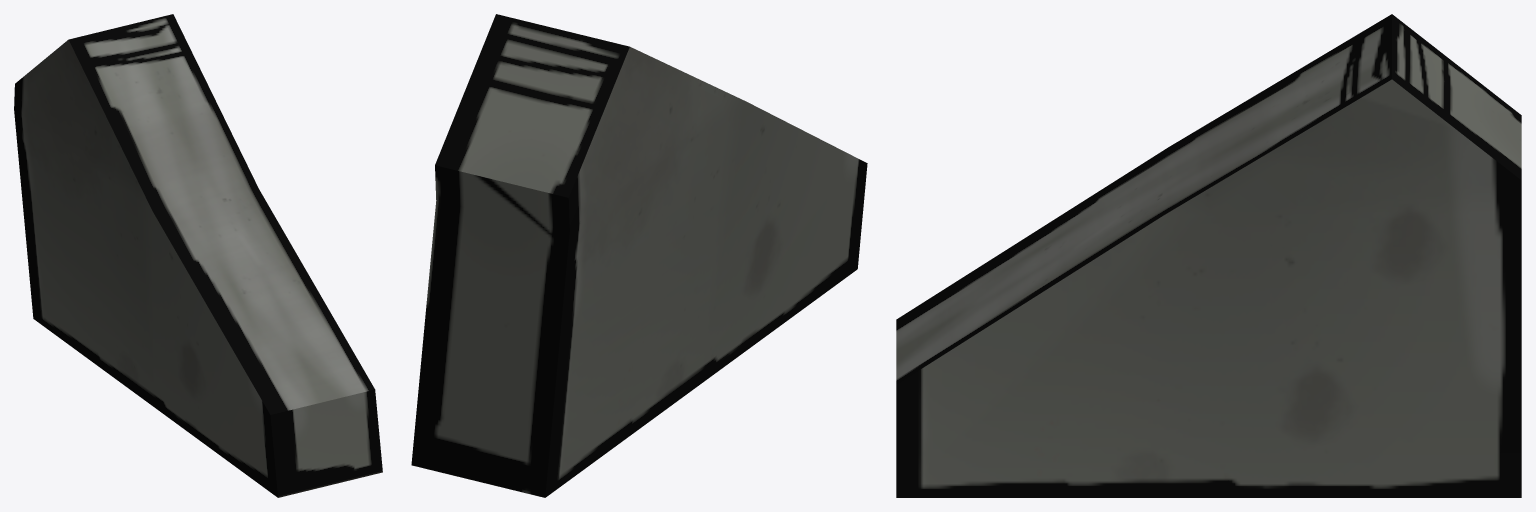
Rendered from tombstone_01_gib5.fbx.
The picture shows the model from 3 angles, left to right: view 1: azimuth 30°, elevation 25°; view 2: azimuth 150°, elevation 25°; view 3: azimuth 270°, elevation 25°; orthographic projection. The views are drawn at different scales.
Parts seen in each view (by area): view 1: tombstone_01_gib5; view 2: tombstone_01_gib5; view 3: tombstone_01_gib5.
Boxes of the visible parts, bbox=[...] form: tombstone_01_gib5: bbox=[14, 14, 382, 497]; tombstone_01_gib5: bbox=[411, 14, 867, 497]; tombstone_01_gib5: bbox=[896, 14, 1521, 497].
Bounding box in the file's own units: 1.18 × 2.92 × 4.04.
